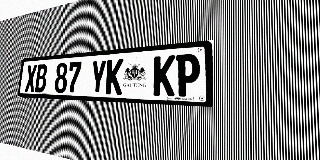7: (66, 61, 82, 93)
8: (54, 62, 68, 93)
B: (35, 64, 48, 92)
K: (153, 55, 176, 96), (105, 59, 124, 95)
P: (175, 53, 200, 97)
X: (25, 65, 37, 92)
Y: (90, 60, 107, 94)
